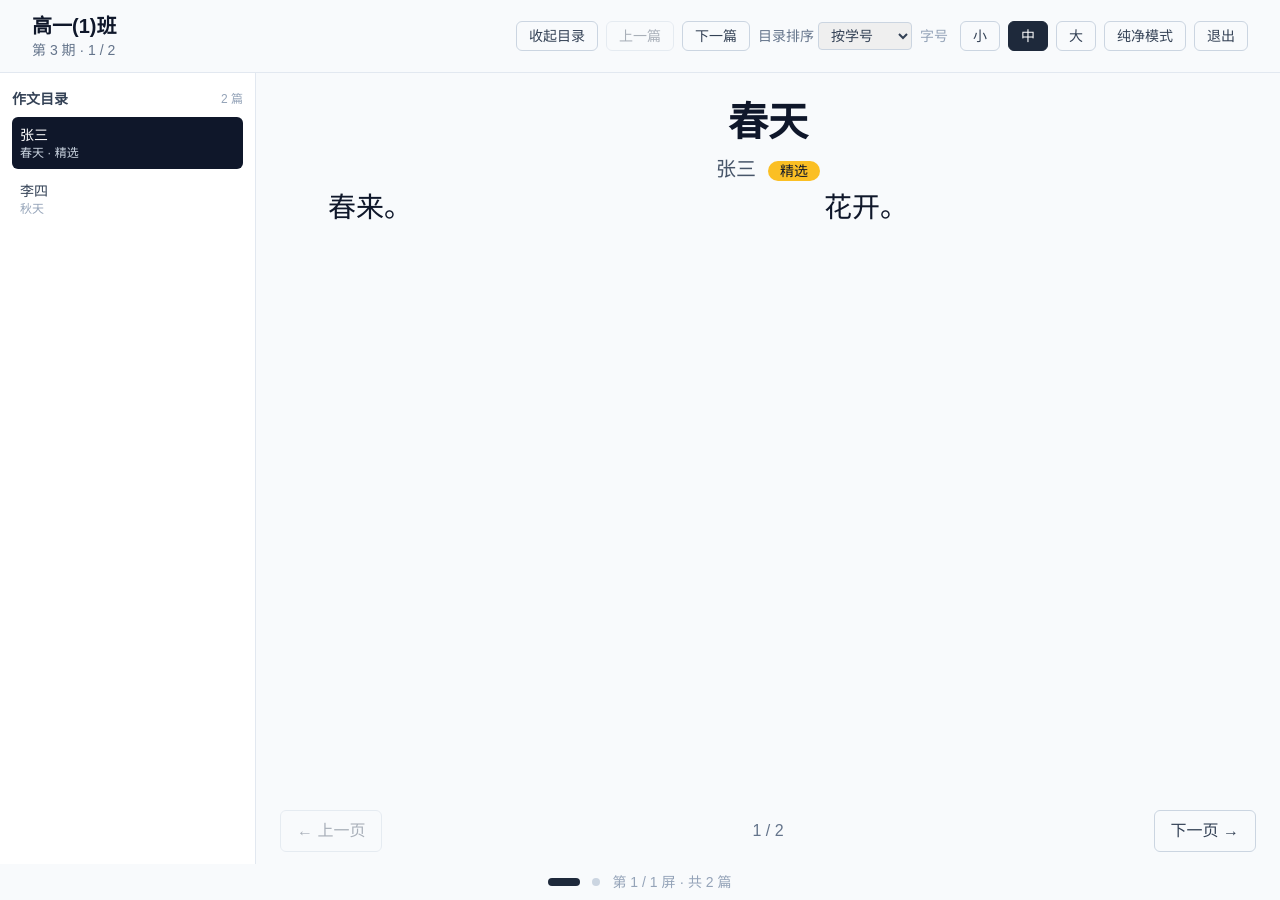
Test: PresentPage › toggles pure mode
The width and height of the screenshot is (1280, 900).
Expected: the text with test id "present-name" is shown, [716,158,756,180]
Click the button "纯净模式" at x=1145, y=36, box [1104,21,1186,51]
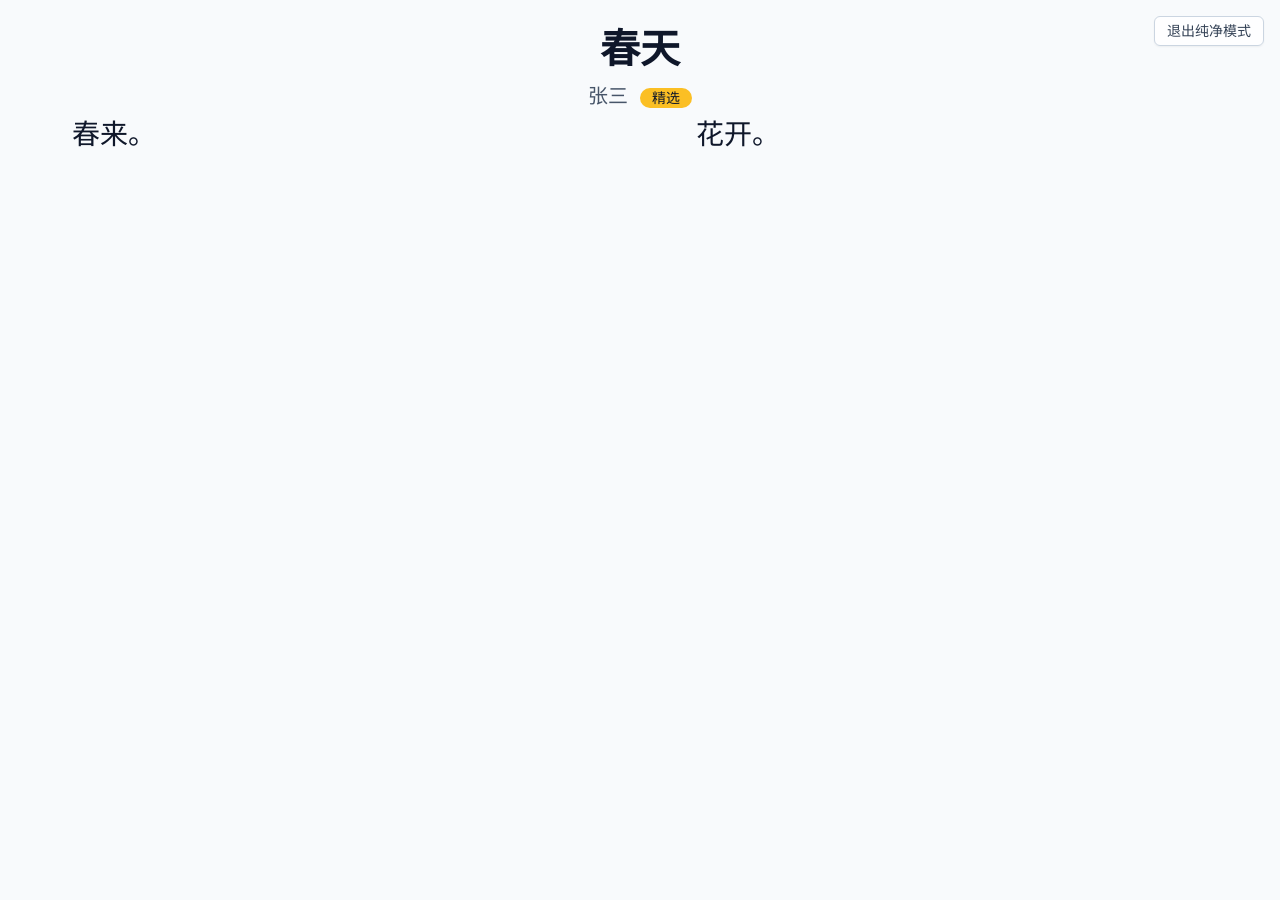
Expected: the footer with test id "pager-controls" is gone
Expected: the button "退出纯净模式" is shown, [1154,16,1264,46]
